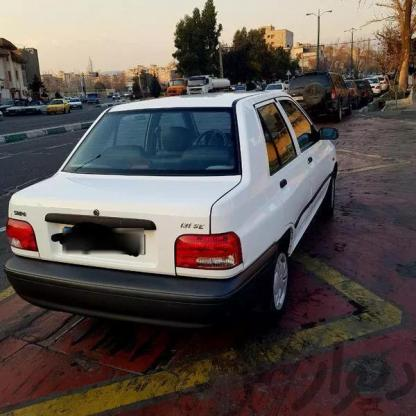Car: (10, 89, 338, 241), (284, 71, 353, 122), (44, 92, 73, 112), (354, 78, 374, 104), (4, 97, 26, 118), (23, 96, 46, 113), (366, 78, 382, 94), (375, 75, 391, 91), (87, 93, 101, 106), (69, 97, 81, 109)
Truck: (187, 73, 234, 97), (164, 76, 188, 97)
